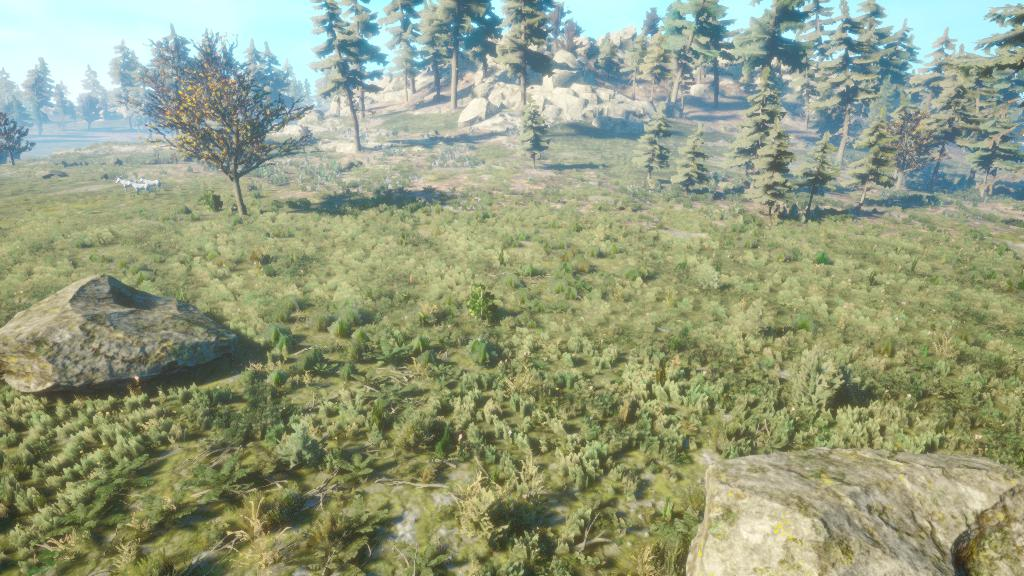zebra: (124, 179, 151, 199)
